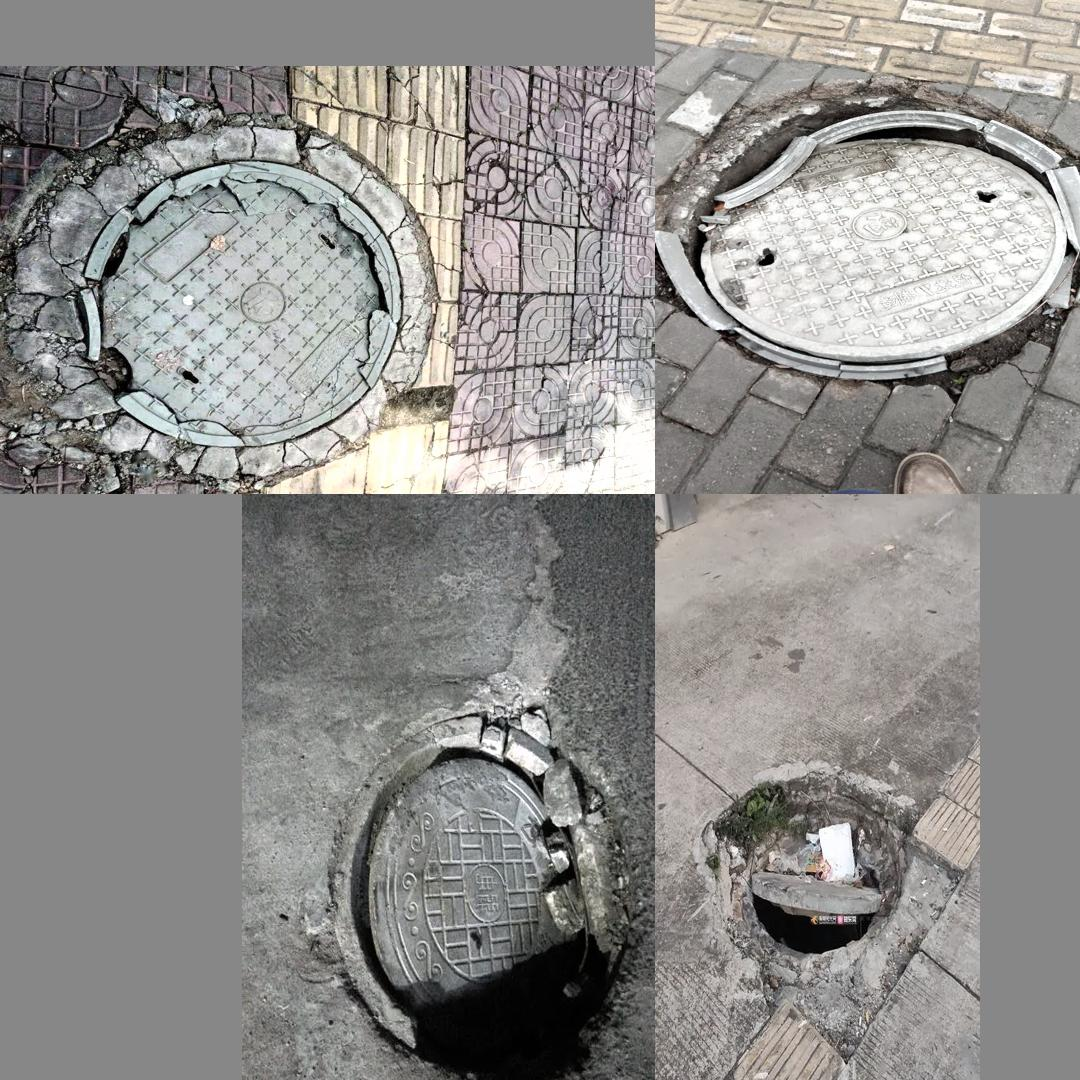circle: (15, 115, 446, 474), (659, 80, 1080, 396), (318, 712, 642, 1080), (683, 753, 949, 1043)
